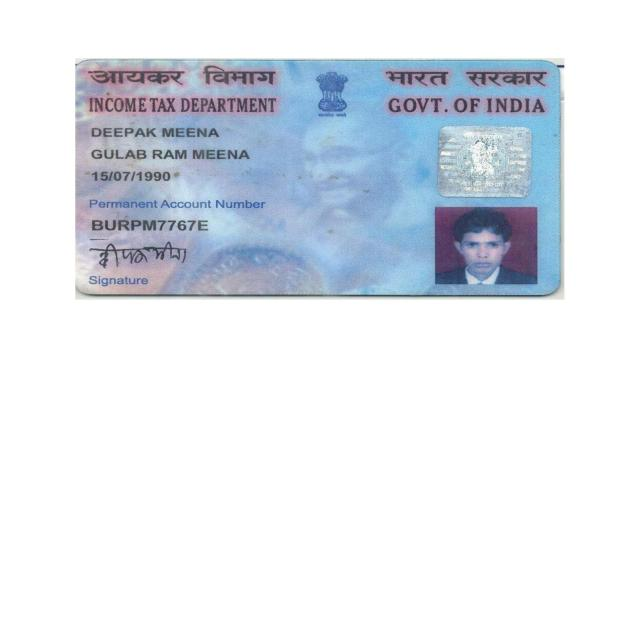pan_card: (76, 58, 556, 295)
